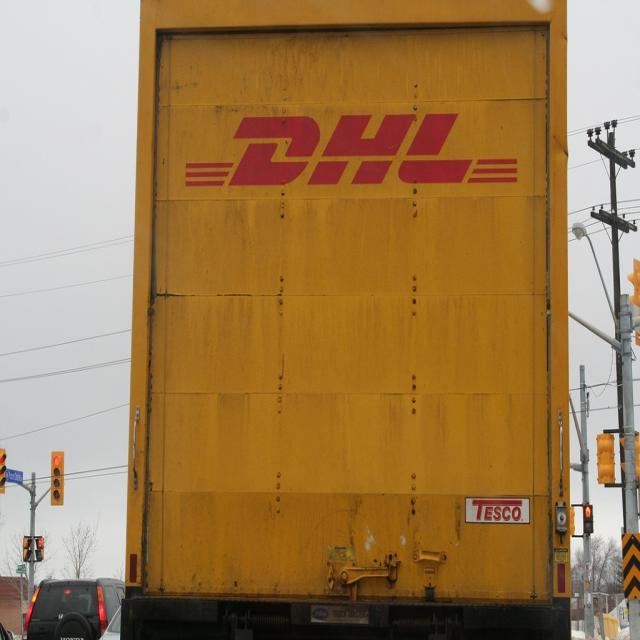dhl: (178, 104, 528, 196)
